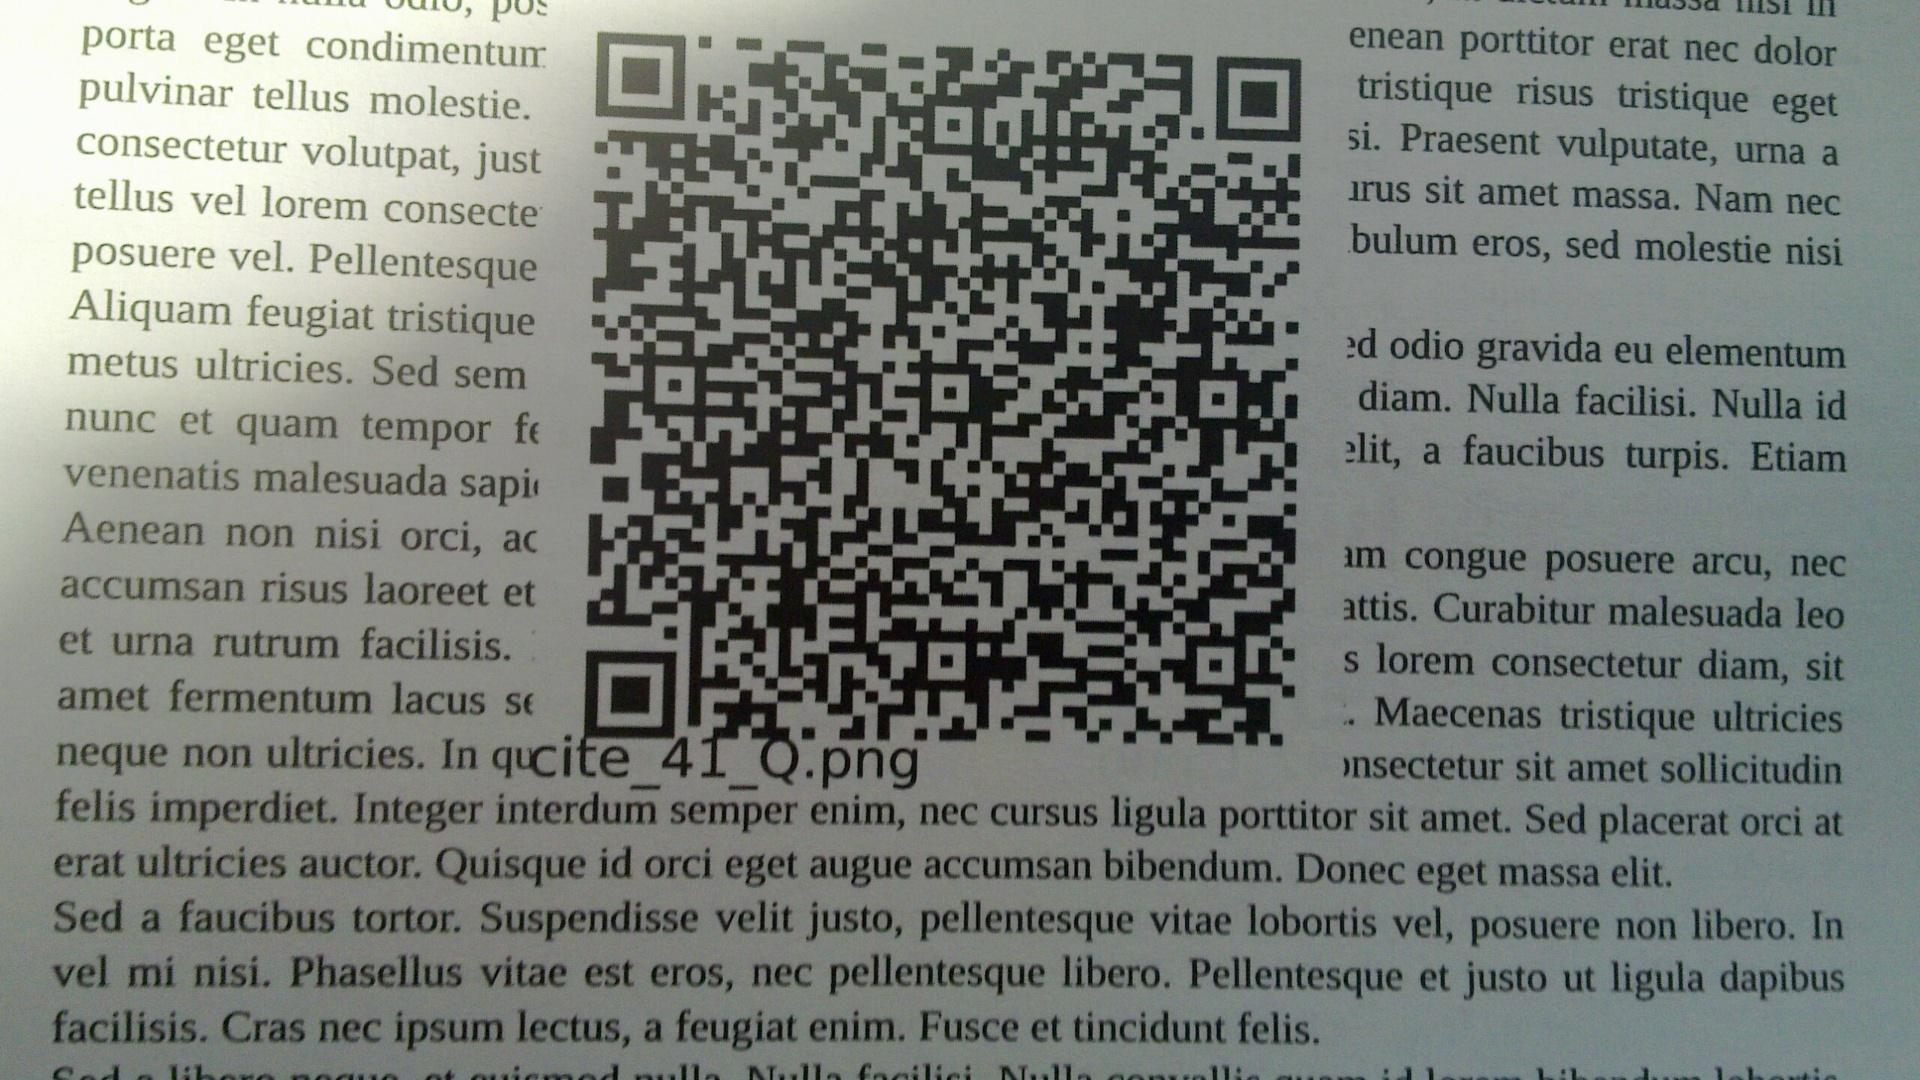Finder pattern: (592, 26, 694, 127), (580, 644, 680, 741), (1211, 50, 1307, 148)
